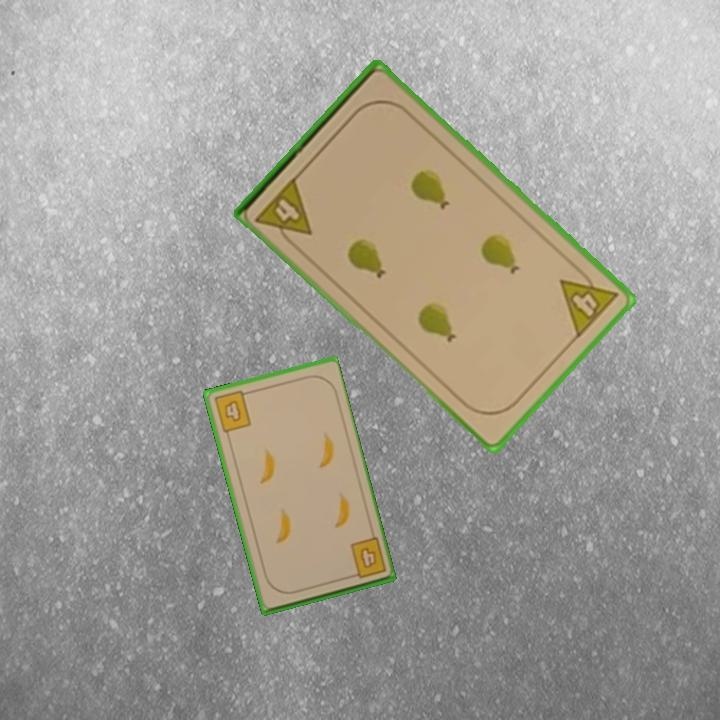4b: (344, 534, 389, 582), (210, 387, 254, 435)
4p: (556, 260, 621, 341), (252, 173, 316, 252)
